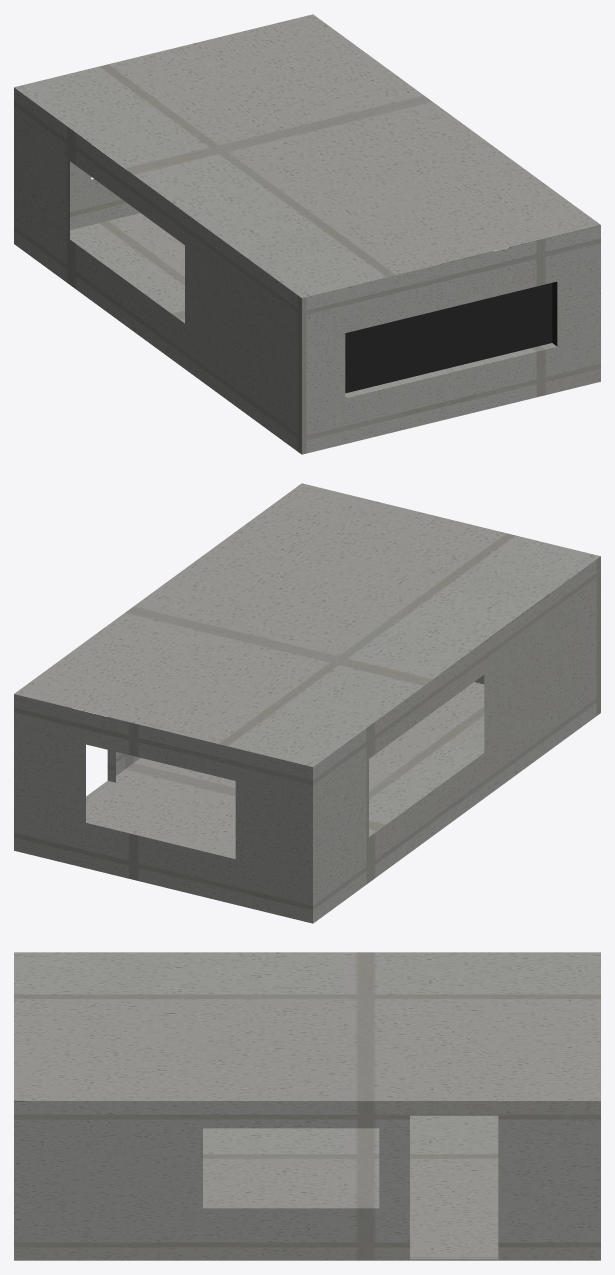
The model's file is Aula.fbx.
3 renders of one model, top to bottom at view 1: azimuth 30°, elevation 25°; view 2: azimuth 150°, elevation 25°; view 3: azimuth 270°, elevation 25°, orthographic.
Visible parts, largest first — view 1: Cube; view 2: Cube; view 3: Cube.
Part boxes in pixels (x1=…): Cube: x1=14, y1=14, x2=600, y2=454; Cube: x1=14, y1=483, x2=600, y2=923; Cube: x1=14, y1=952, x2=600, y2=1260.
Size of the model in its own units: 600 by 300 by 1000.
Materials: 2 (1 with a texture image).
